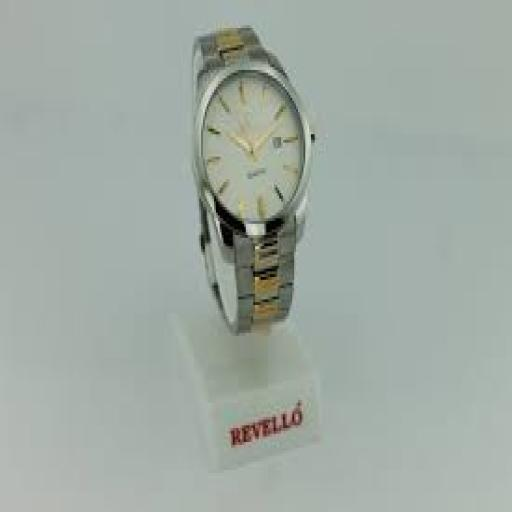KolSaati: (162, 7, 334, 365)
